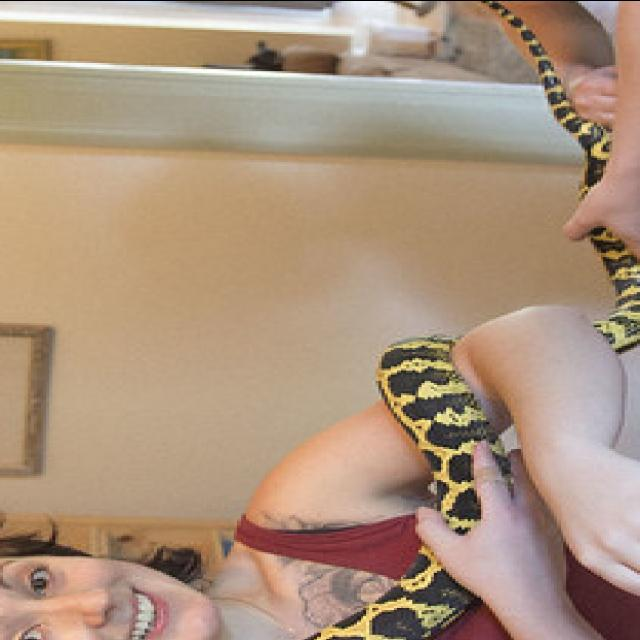Snake: (136, 0, 640, 640)
